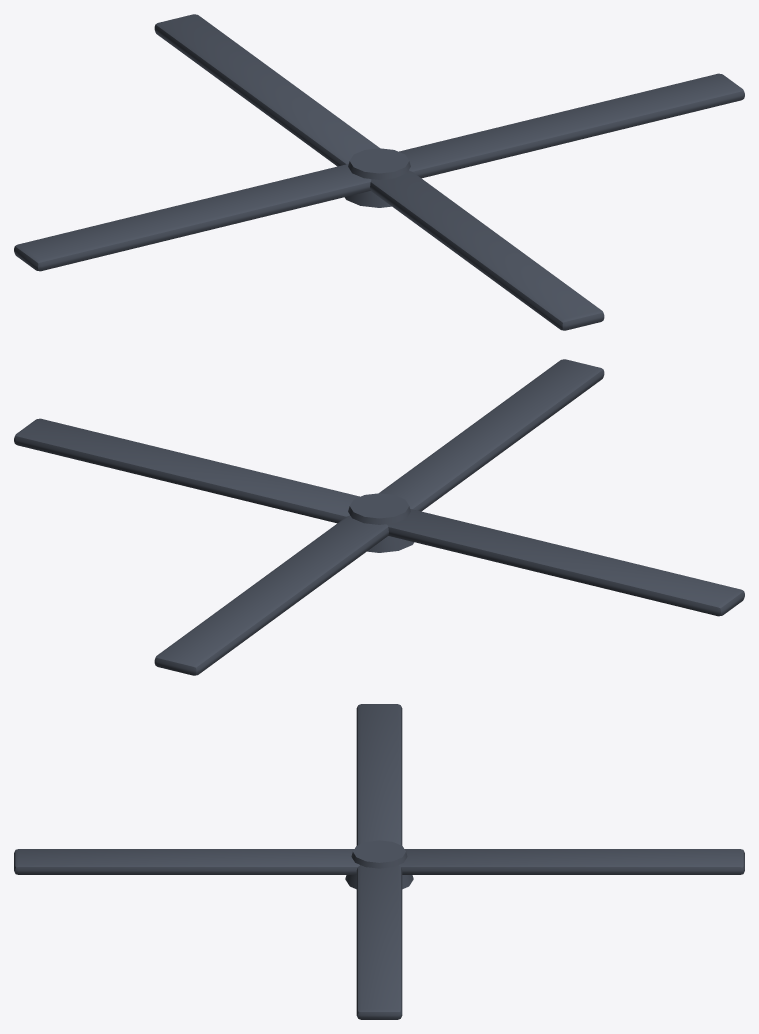
File: heli_rotor.fbx
3 renders of one model, top to bottom at view 1: azimuth 30°, elevation 25°; view 2: azimuth 150°, elevation 25°; view 3: azimuth 270°, elevation 25°, orthographic. The views are drawn at different scales.
Visible parts, largest first — view 1: heli_rotor; view 2: heli_rotor; view 3: heli_rotor.
Boxes of the visible parts, left/top/right/bottom form: heli_rotor: left=14, top=14, right=744, bottom=330; heli_rotor: left=14, top=359, right=744, bottom=675; heli_rotor: left=14, top=704, right=744, bottom=1019.
Bounding box in the file's own units: 1.92 × 0.08 × 1.92.
